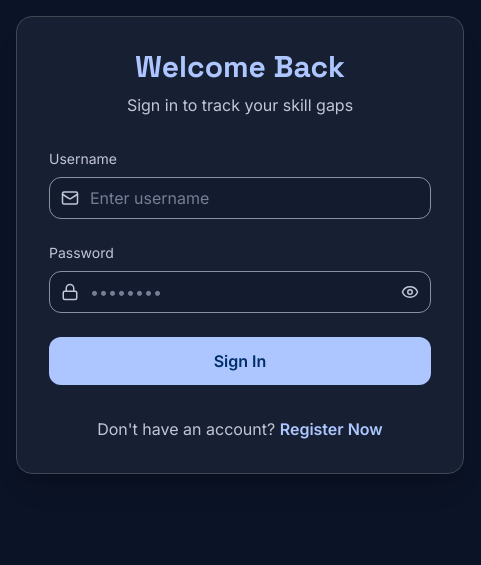
Test: Login Page › shows error message on failed login
Type "wronguser" into the field with placeholder "Enter username" at (240, 198), box [49,177,431,219]
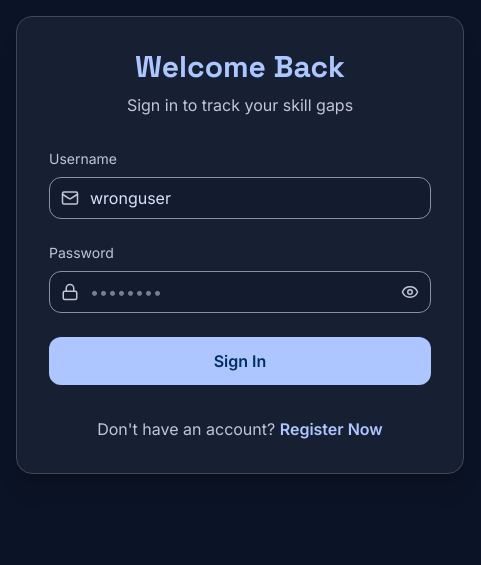
Type "wrongpass" into the password field with placeholder "••••••••" at (240, 292), box [49,271,431,313]
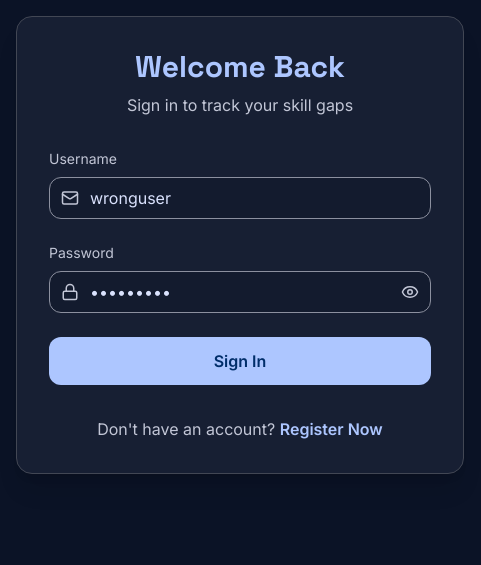
Click the button "Sign In" at (240, 361), box [49,337,431,385]
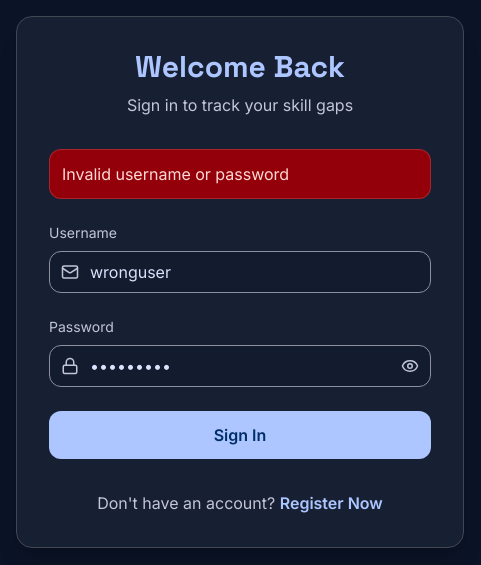
Check: the text "Invalid username or password" is shown, box [49,149,431,199]
